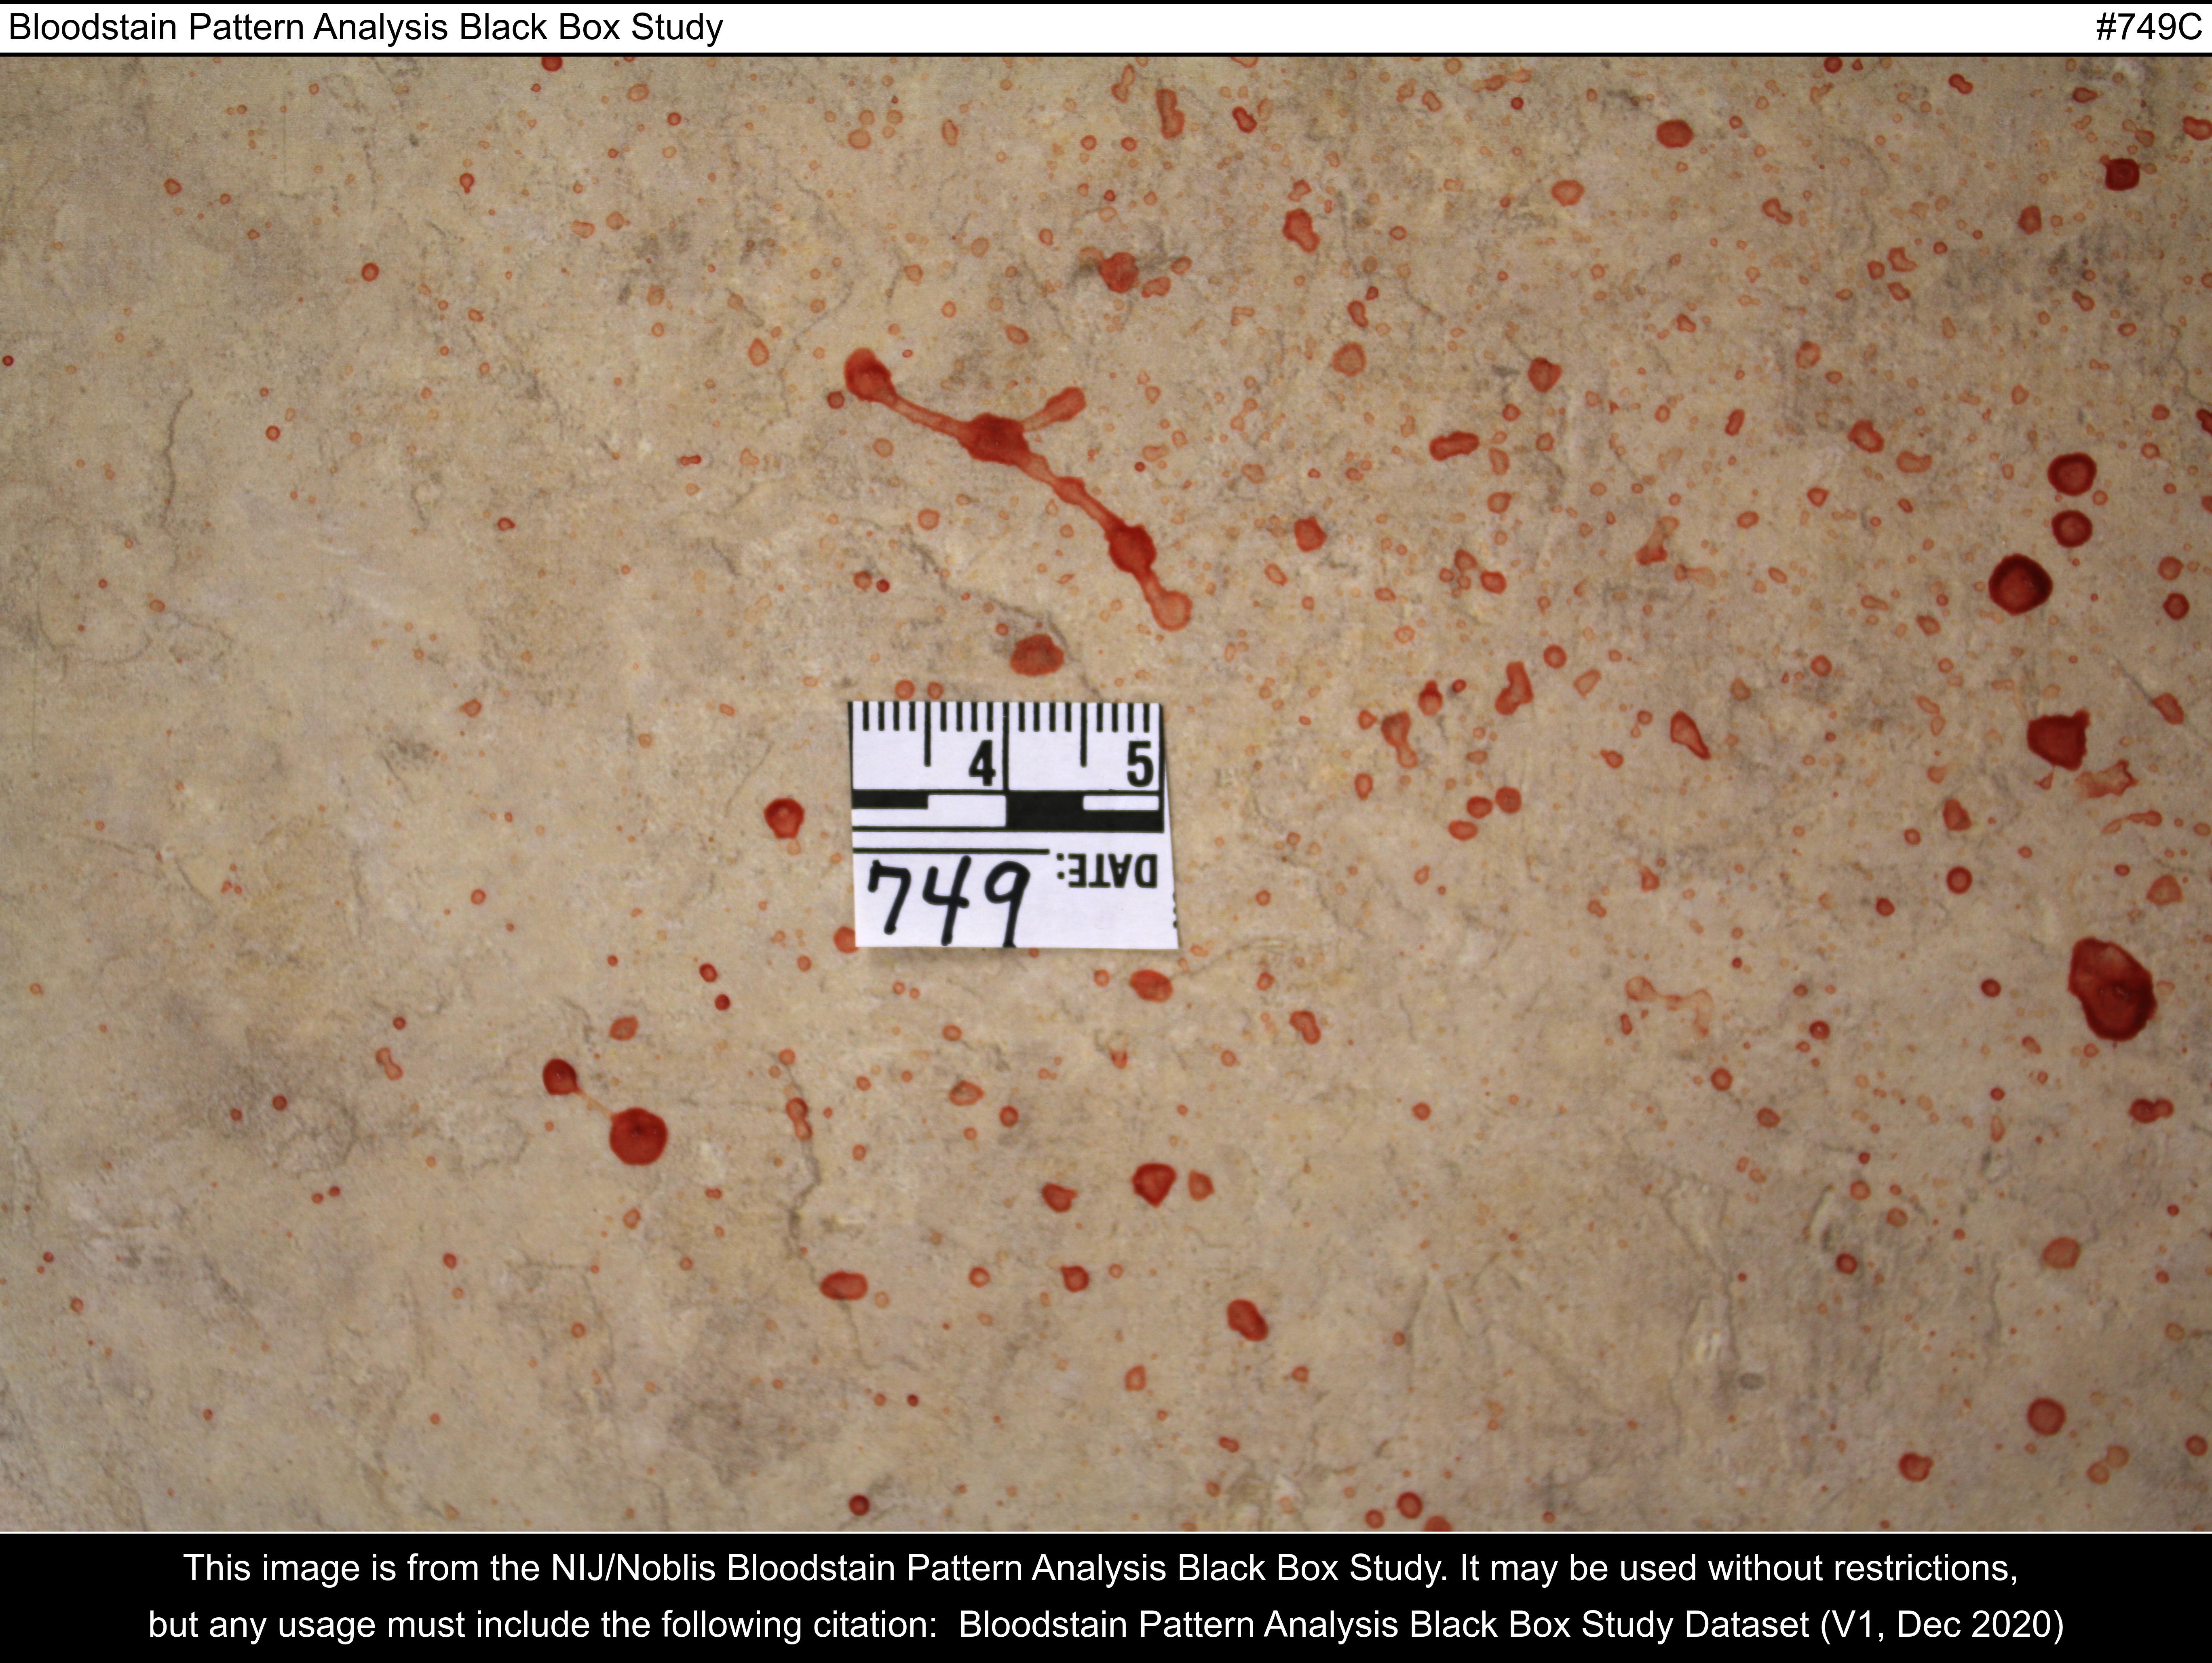Impact: (449, 77, 2175, 1460)
